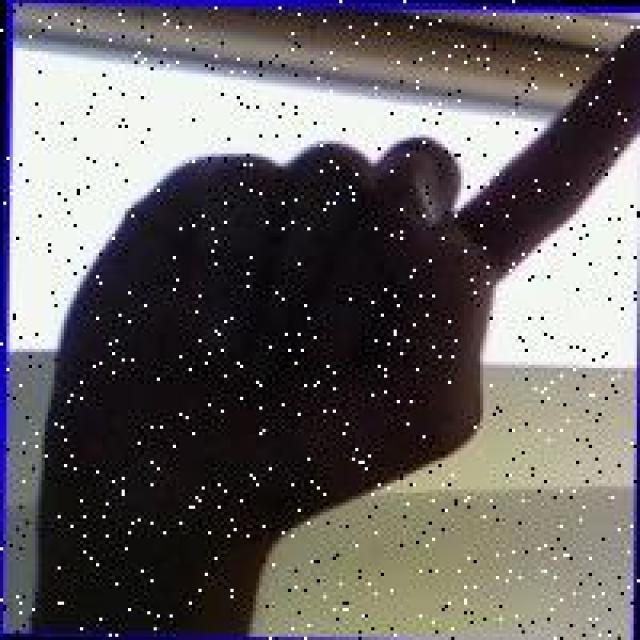Z: (30, 10, 632, 544)
